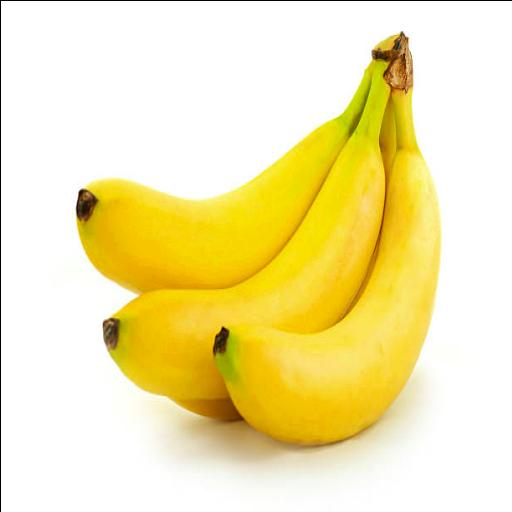banana: (103, 62, 389, 418), (214, 90, 439, 445), (76, 69, 369, 292), (341, 237, 378, 318)
